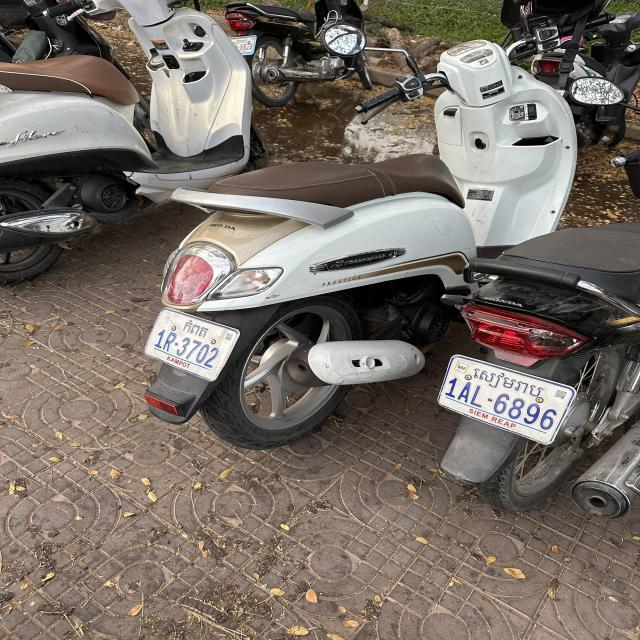Kampot: (180, 319, 210, 339)
Siem_Reap: (473, 365, 546, 398)
